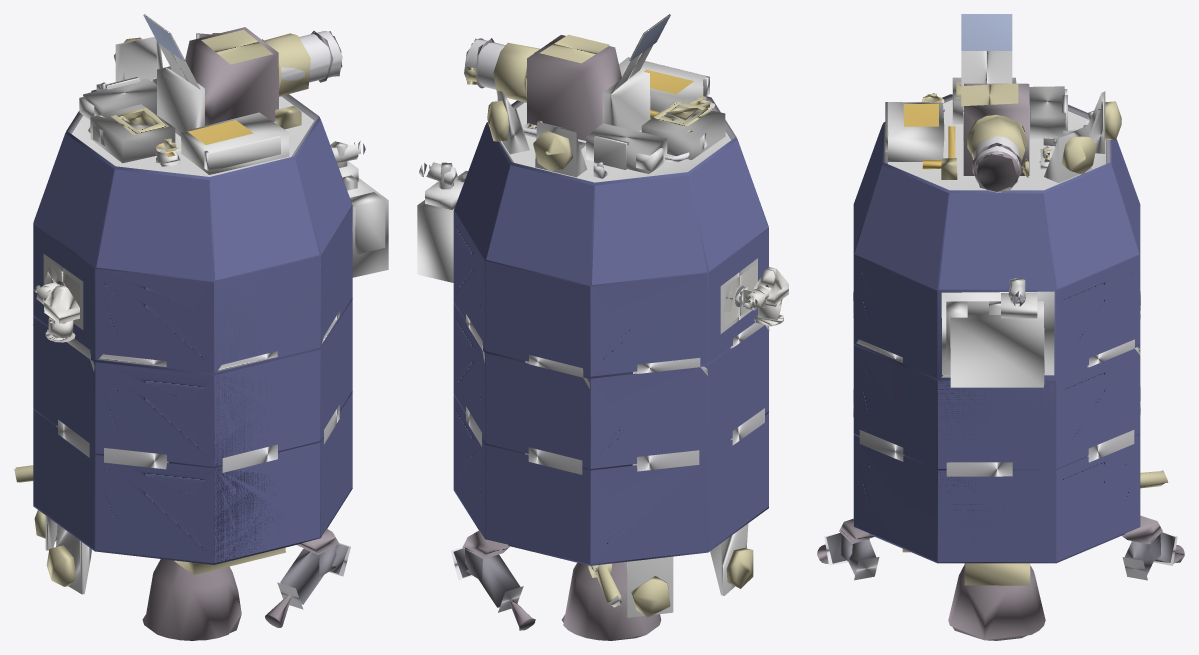
Rendered from ladee.glb.
The picture shows the model from 3 angles, left to right: view 1: azimuth 30°, elevation 25°; view 2: azimuth 150°, elevation 25°; view 3: azimuth 270°, elevation 25°; orthographic projection. The views are drawn at different scales.
Parts seen in each view (by area): view 1: Fake; view 2: Fake; view 3: Fake.
Part boxes in pixels (x1=…): Fake: x1=14, y1=14, x2=388, y2=640; Fake: x1=417, y1=14, x2=788, y2=640; Fake: x1=817, y1=14, x2=1184, y2=640.
Size of the model in its own units: 37.14 by 63.9 by 36.23.
1 material, 1 textured.
